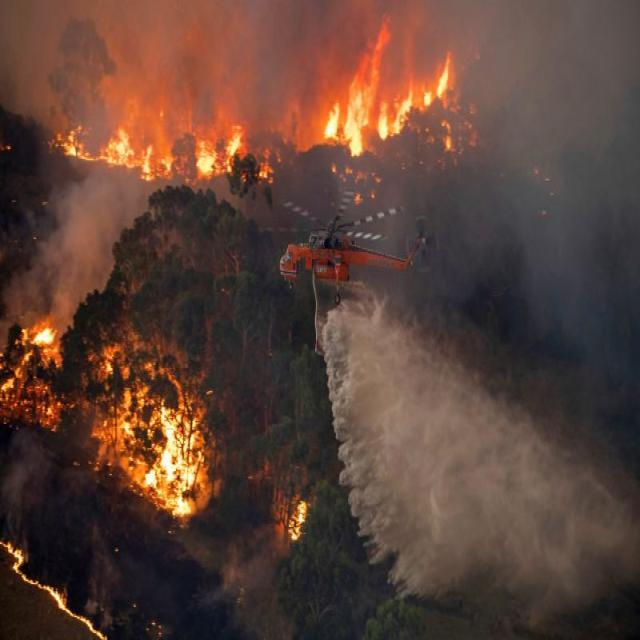Fire: (88, 343, 208, 520), (325, 10, 453, 155), (42, 120, 276, 182), (2, 534, 106, 639), (2, 314, 80, 436), (286, 494, 308, 542)
Smoke: (6, 11, 638, 346), (4, 163, 160, 312)
